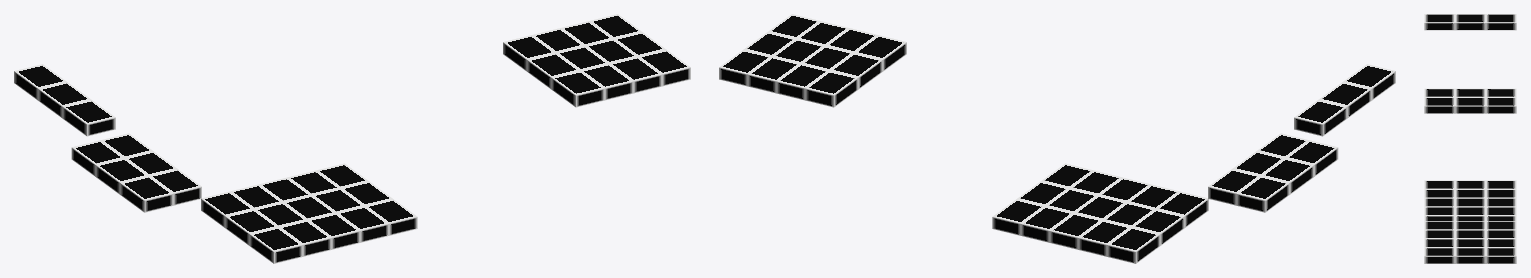
Rendered from Luna5TransicaoFinalSoloRev.glb.
3 renders of one model, left to right at view 1: azimuth 30°, elevation 25°; view 2: azimuth 150°, elevation 25°; view 3: azimuth 270°, elevation 25°, orthographic. The views are drawn at different scales.
Visible parts, largest first — view 1: Setor_0; view 2: Setor_0; view 3: Setor_0.
Boxes of the visible parts, x1=… form: Setor_0: x1=14, y1=14, x2=690, y2=263; Setor_0: x1=719, y1=14, x2=1395, y2=263; Setor_0: x1=1424, y1=14, x2=1516, y2=263.
Bounding box in the file's own units: 21 × 6.15 × 4.4.
Materials: 1 (1 with a texture image).
